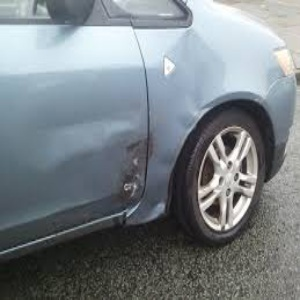door: (67, 128, 161, 205)
